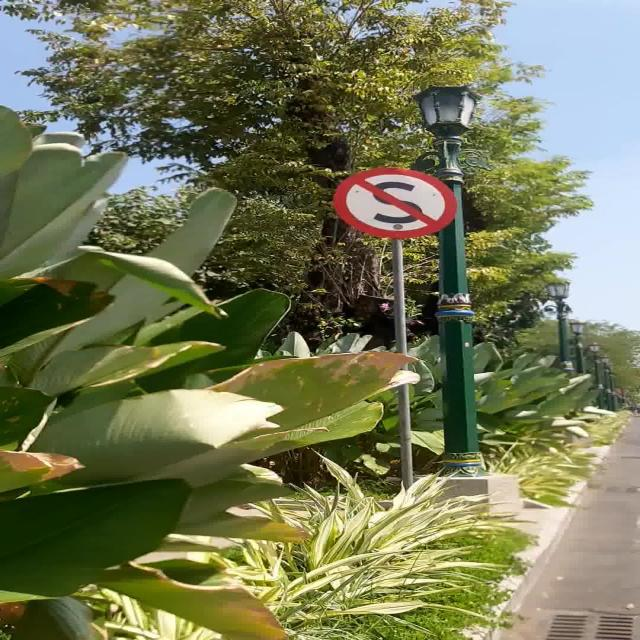Dilarang Berhenti: (334, 168, 457, 238)
